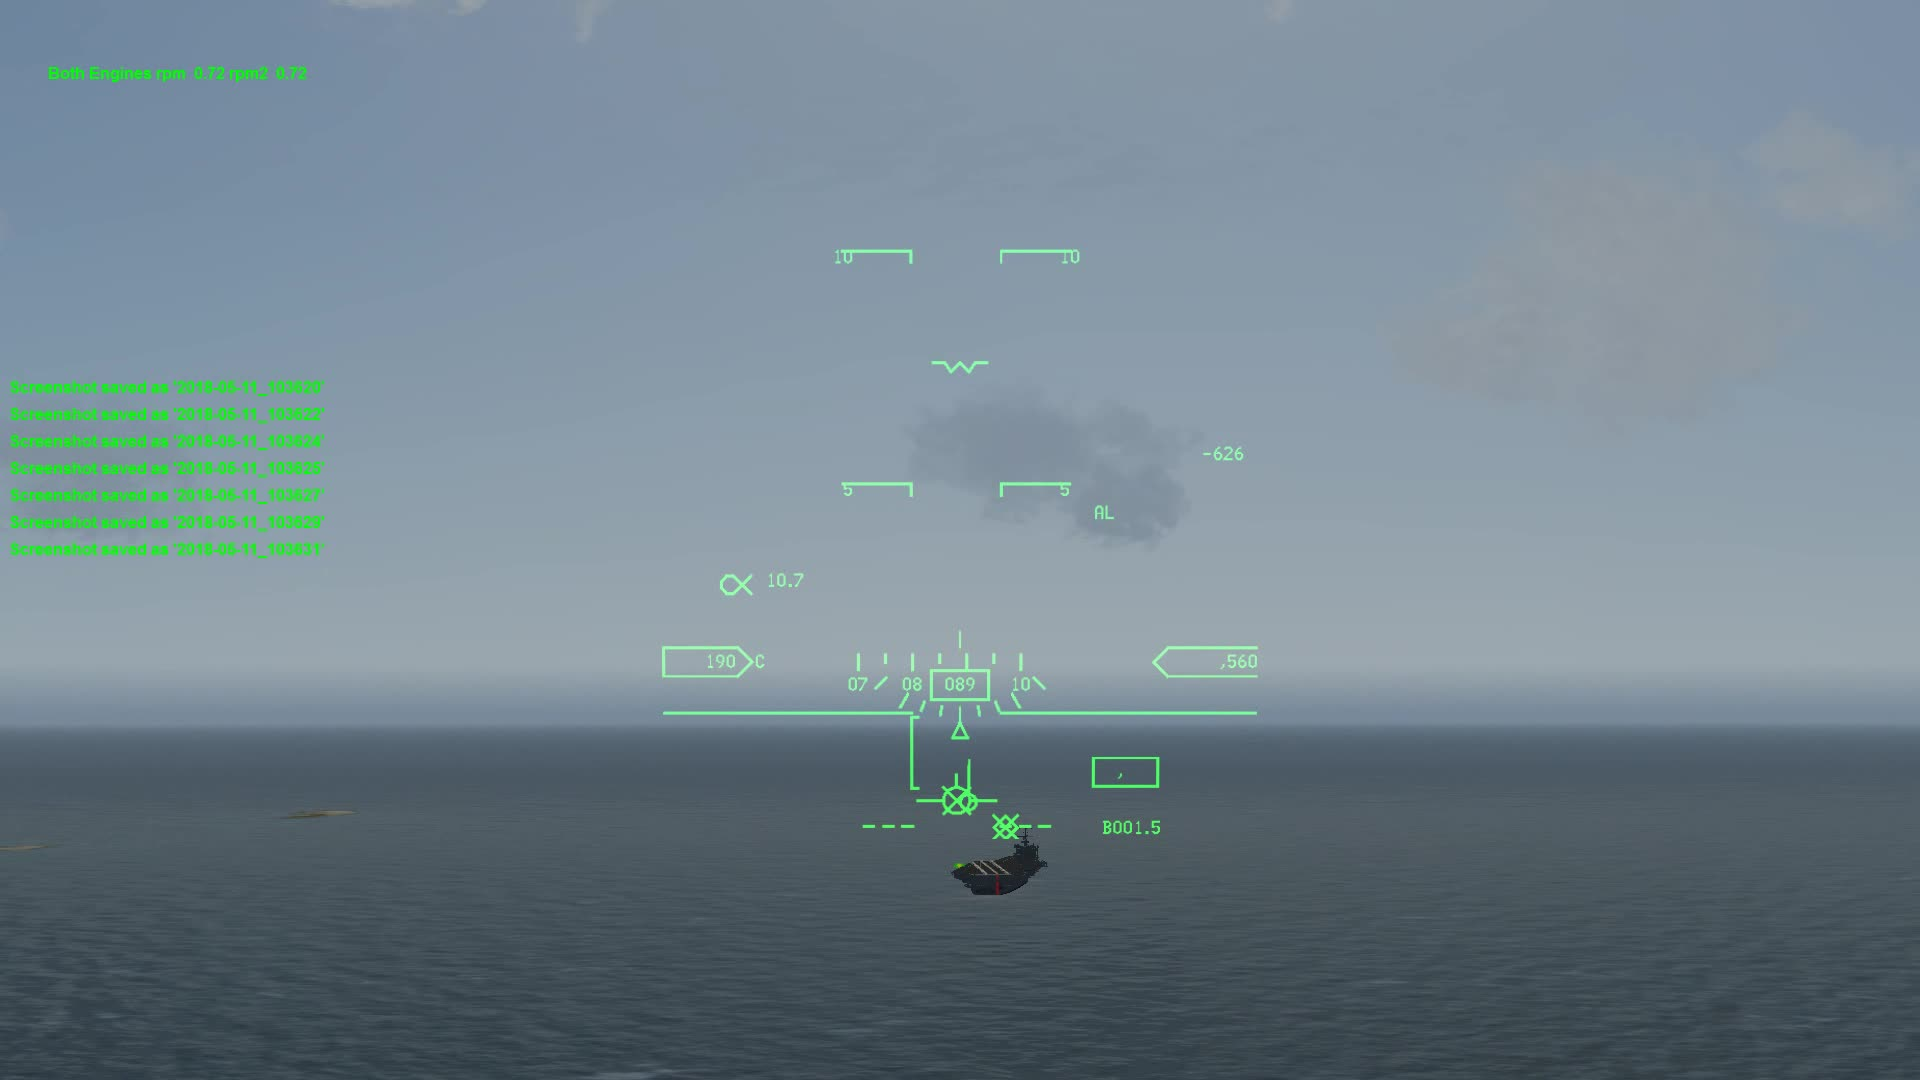speed vector: (907, 767, 1011, 816)
